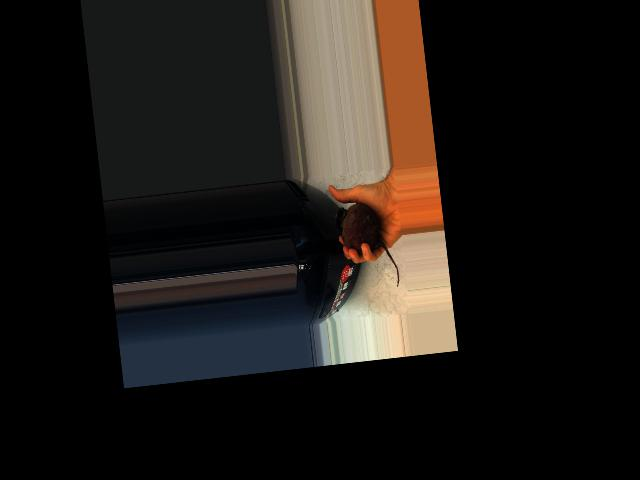beet: (334, 200, 400, 293)
